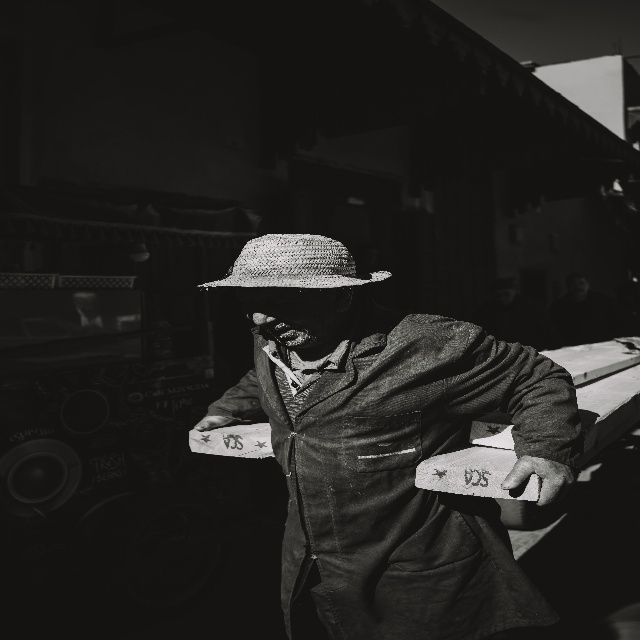Sin_guantes: (501, 456, 577, 506), (193, 416, 235, 433)
